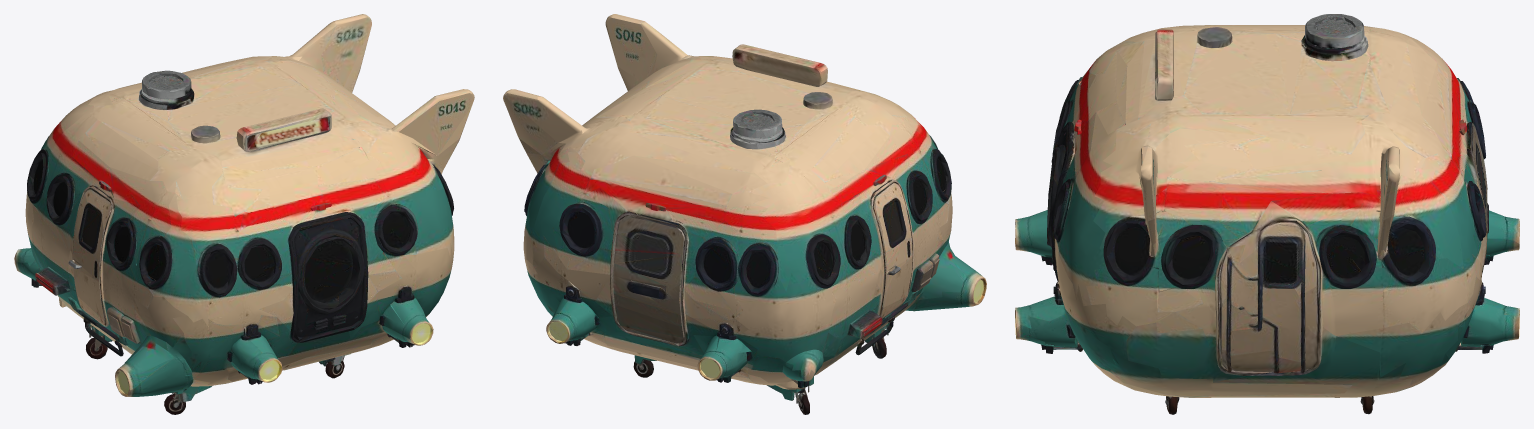
Rendered from shuttle.glb.
3 renders of one model, left to right at view 1: azimuth 30°, elevation 25°; view 2: azimuth 150°, elevation 25°; view 3: azimuth 270°, elevation 25°, orthographic. The views are drawn at different scales.
Visible parts, largest first — view 1: Mesh_0; view 2: Mesh_0; view 3: Mesh_0.
Part boxes in pixels (x1,y1,x2,y2): Mesh_0: (14, 14, 474, 414); Mesh_0: (503, 14, 986, 414); Mesh_0: (1015, 14, 1519, 414).
Size of the model in its own units: 1.9 by 1.37 by 1.9.
1 material, 1 textured.
